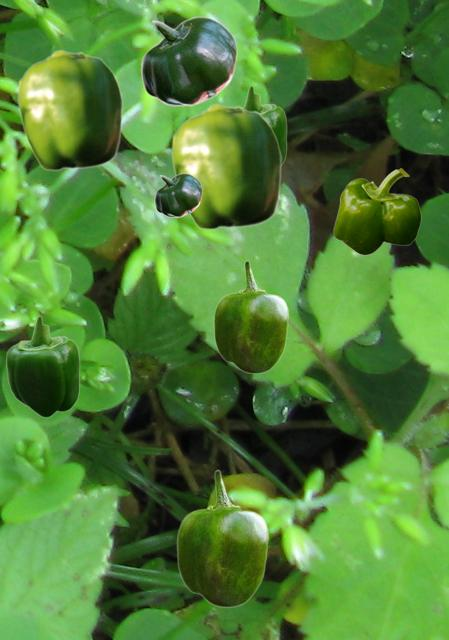bell_pepper: (171, 103, 281, 229), (17, 49, 122, 170), (176, 469, 268, 607), (140, 16, 236, 105), (213, 260, 288, 373), (5, 315, 79, 417), (333, 168, 420, 254), (242, 85, 286, 165), (154, 173, 201, 216)
